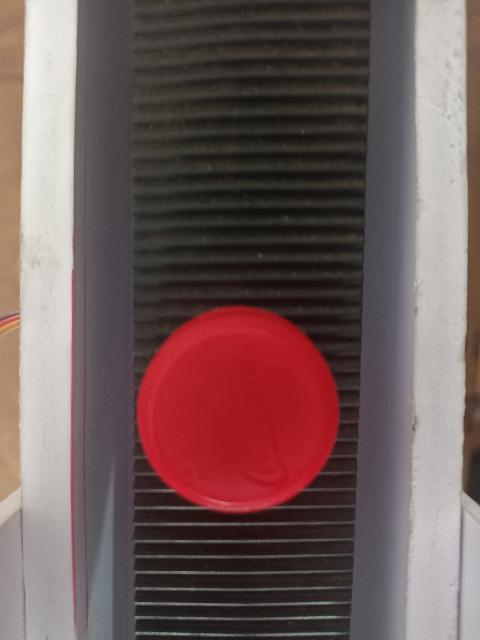bottlecap: (135, 298, 343, 516)
